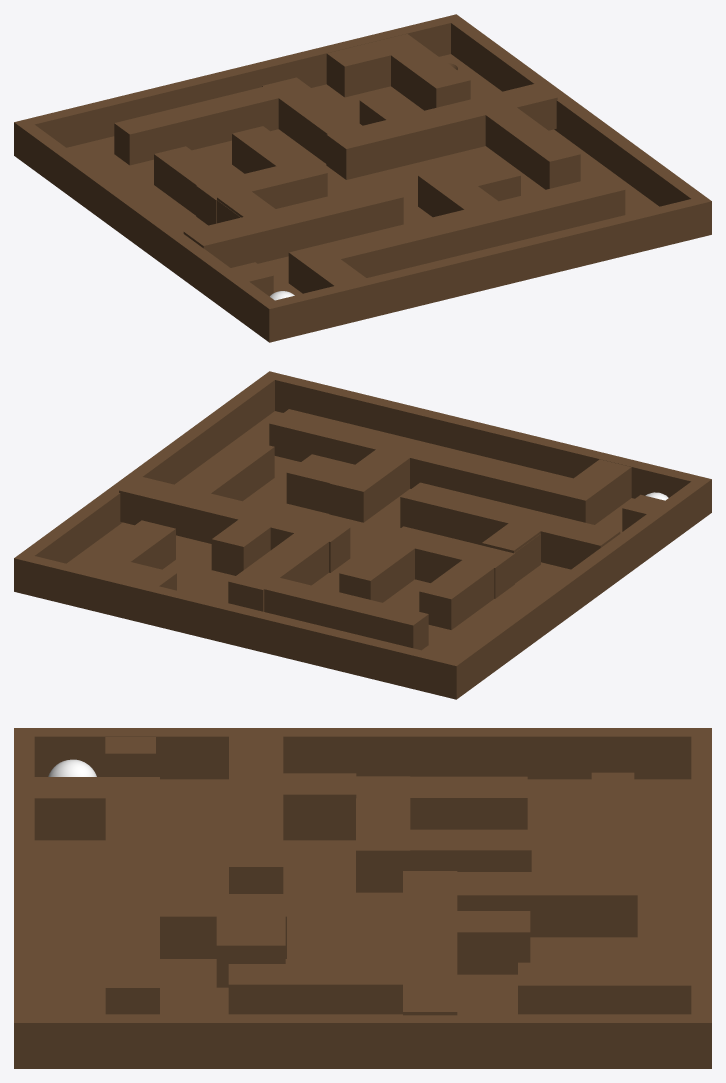
Rendered from marblemaze.obj.
3 views of the same model, one above another, from view 1: azimuth 30°, elevation 25°; view 2: azimuth 150°, elevation 25°; view 3: azimuth 270°, elevation 25° (orthographic). The views are drawn at different scales.
Visible parts, largest first — view 1: pCube6, pCube7, pCube3, pCube5, pCube8, pCube4, pCube2; view 2: pCube6, pCube7, pCube3, pCube8, pCube5, pCube4, pCube2; view 3: pCube6, pCube7, pCube3, pCube8, pCube5, pCube4, pCube2, pSphere3.
Part boxes in pixels (x1,y1,x2,y2): pCube6: (14,14,711,342); pCube7: (114,77,580,189); pCube3: (288,157,625,293); pCube5: (183,183,403,267); pCube8: (154,126,327,225); pCube4: (326,34,470,110); pCube2: (231,262,273,296); pCube6: (14,371,711,699); pCube7: (119,439,428,650); pCube3: (269,409,631,524); pCube8: (339,526,540,629); pCube5: (400,482,620,569); pCube4: (79,520,176,590); pCube2: (622,494,664,531); pCube6: (14,728,711,1068); pCube7: (228,772,637,1015); pCube3: (34,777,286,1014); pCube8: (283,776,531,892); pCube5: (229,733,356,893); pCube4: (518,931,691,1014); pCube2: (105,737,155,776); pSphere3: (48,759,96,776).
Size of the model in its own units: 13.82 by 1.32 by 13.82.
